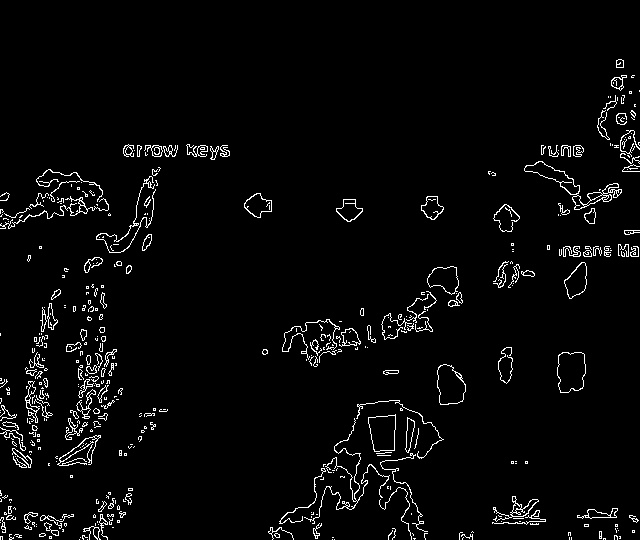down: (331, 192, 369, 231), (414, 188, 448, 230)
left: (238, 187, 282, 226)
up: (486, 197, 526, 240)
